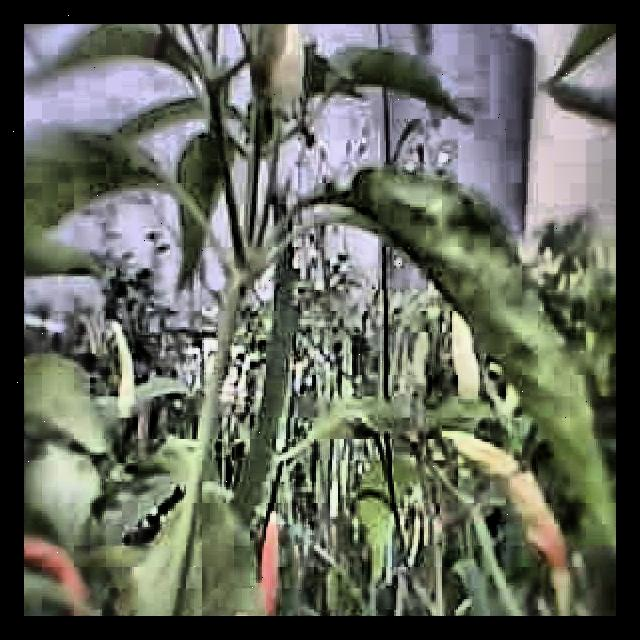Cabai: (457, 426, 587, 590), (218, 507, 311, 616), (24, 517, 95, 616), (105, 307, 151, 438)
